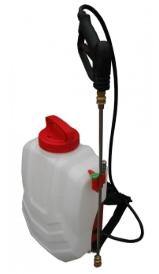PULVERISATEUR: (11, 0, 149, 274)
